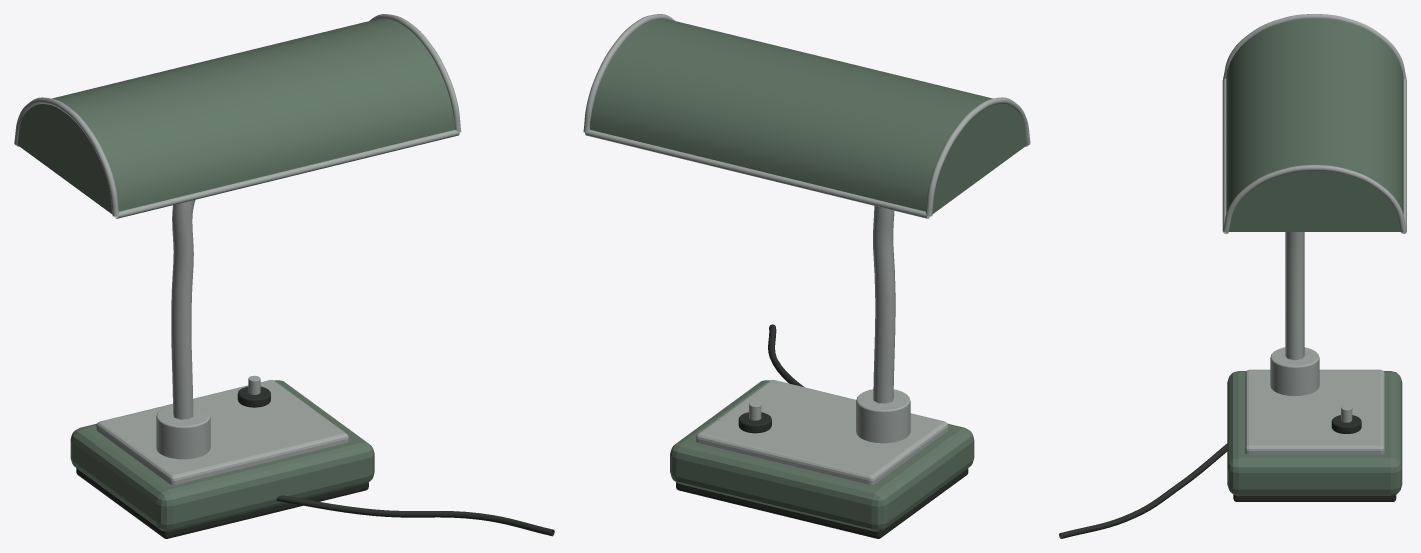
File: A17_Lamp.fbx
3 renders of one model, left to right at view 1: azimuth 30°, elevation 25°; view 2: azimuth 150°, elevation 25°; view 3: azimuth 270°, elevation 25°, orthographic. The views are drawn at different scales.
Parts seen in each view (by area): view 1: Lamp_Green, Lamp_Steel, Lamp_Rubber; view 2: Lamp_Green, Lamp_Steel, Lamp_Rubber; view 3: Lamp_Green, Lamp_Steel, Lamp_Rubber.
Part boxes in pixels (<box>): Lamp_Green: <box>17,18,454,531</box>; Lamp_Steel: <box>14,14,461,484</box>; Lamp_Rubber: <box>76,386,554,538</box>; Lamp_Green: <box>590,18,1027,531</box>; Lamp_Steel: <box>583,14,1030,484</box>; Lamp_Rubber: <box>676,324,968,538</box>; Lamp_Green: <box>1226,18,1403,495</box>; Lamp_Steel: <box>1222,14,1406,454</box>; Lamp_Rubber: <box>1059,415,1396,538</box>.
Size of the model in its own units: 46.24 by 52.1 by 43.81.
